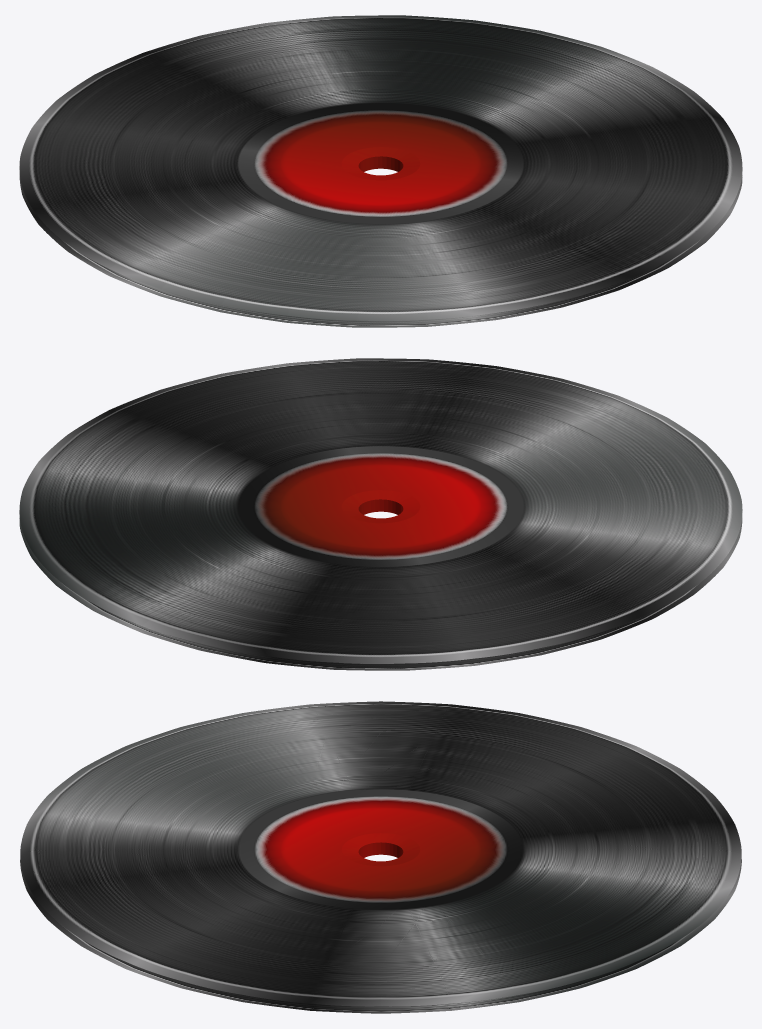
Rendered from phonograph_record.fbx.
3 views of the same model, one above another, from view 1: azimuth 30°, elevation 25°; view 2: azimuth 150°, elevation 25°; view 3: azimuth 270°, elevation 25° (orthographic).
Parts seen in each view (by area): view 1: Cylinder; view 2: Cylinder; view 3: Cylinder.
Boxes of the visible parts, x1,y1,x2,y2 form: Cylinder: (19, 15, 742, 327); Cylinder: (19, 358, 742, 670); Cylinder: (20, 701, 741, 1013).
Bounding box in the file's own units: 78.7 × 2 × 78.7.
Materials: 1 (1 with a texture image).
